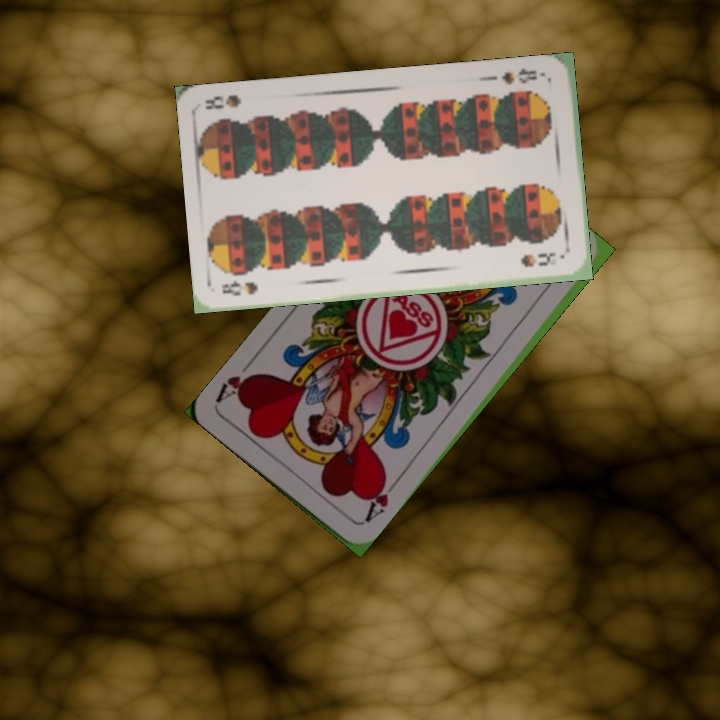HA: (357, 473, 400, 527)
S8: (498, 64, 540, 87), (218, 277, 260, 299)
